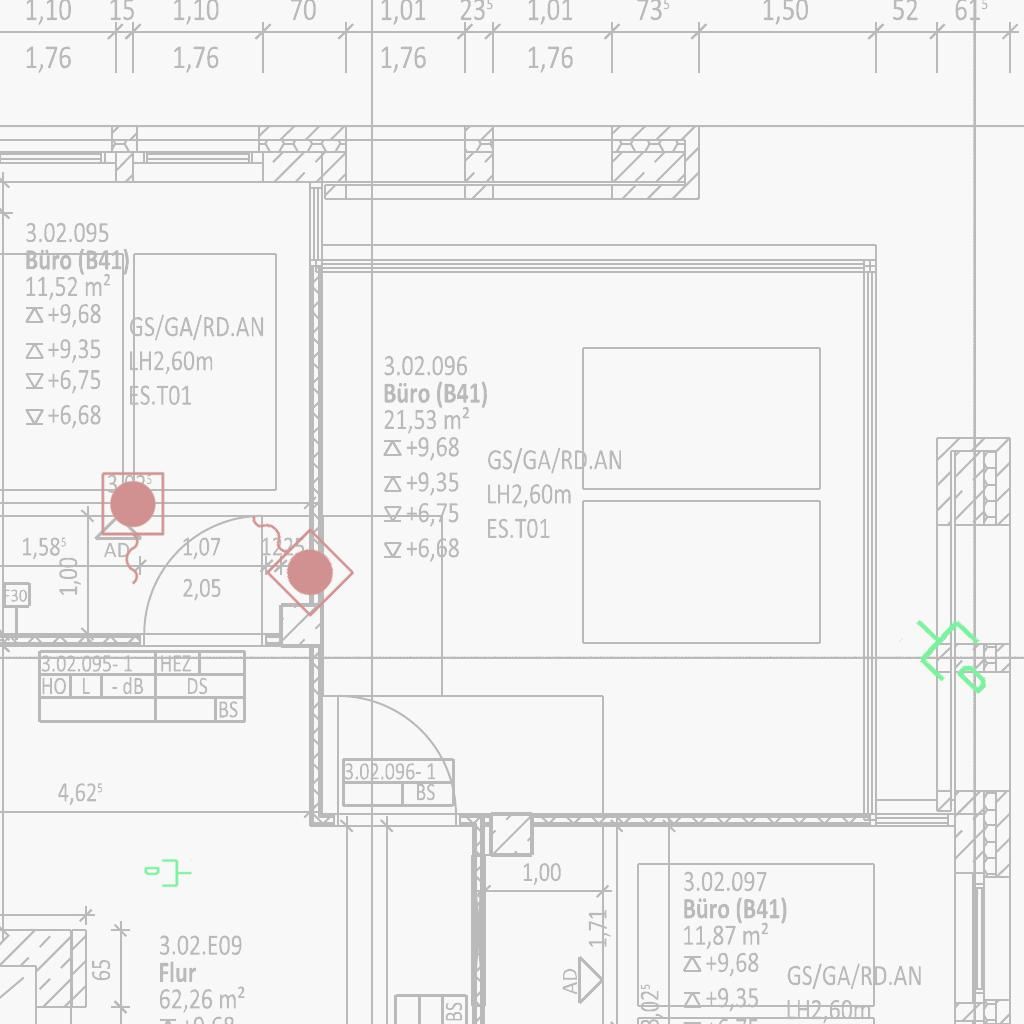Datenanschluss_einfach: (893, 592, 1014, 712), (143, 857, 193, 891)
Zugtaster: (224, 485, 362, 623), (96, 468, 168, 590)
